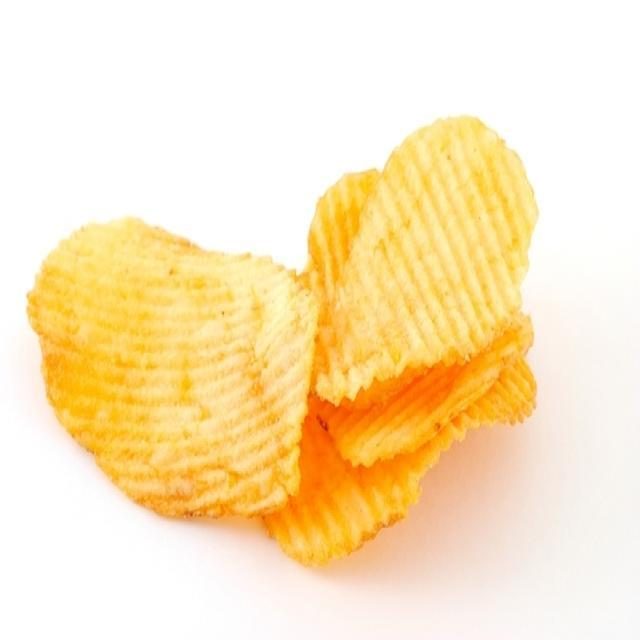Chips packaged: (23, 127, 553, 592), (15, 201, 316, 542), (307, 102, 534, 382)
